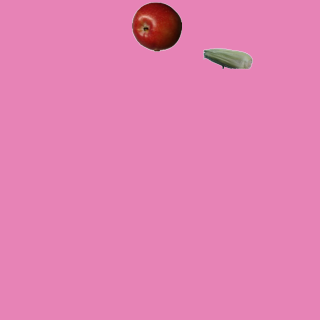Apple Braeburn: (131, 1, 181, 51)
Corn Husk: (202, 33, 252, 83)
